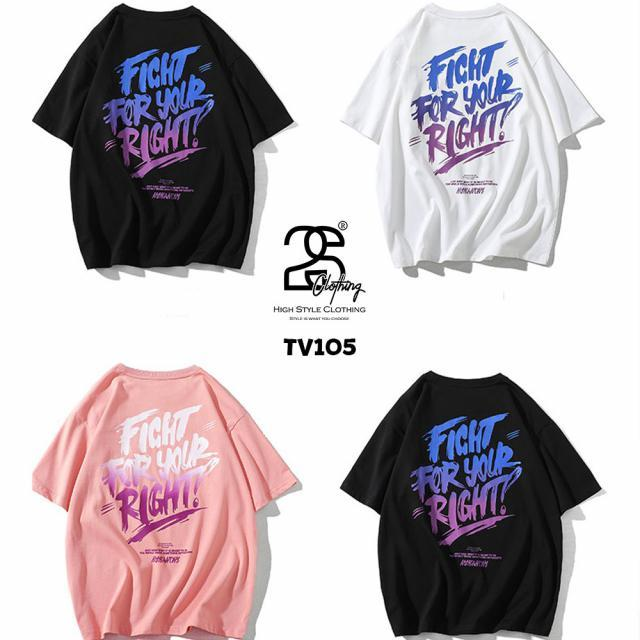Shirt: (33, 363, 304, 640), (336, 370, 606, 640), (35, 3, 293, 277), (344, 7, 603, 272)
